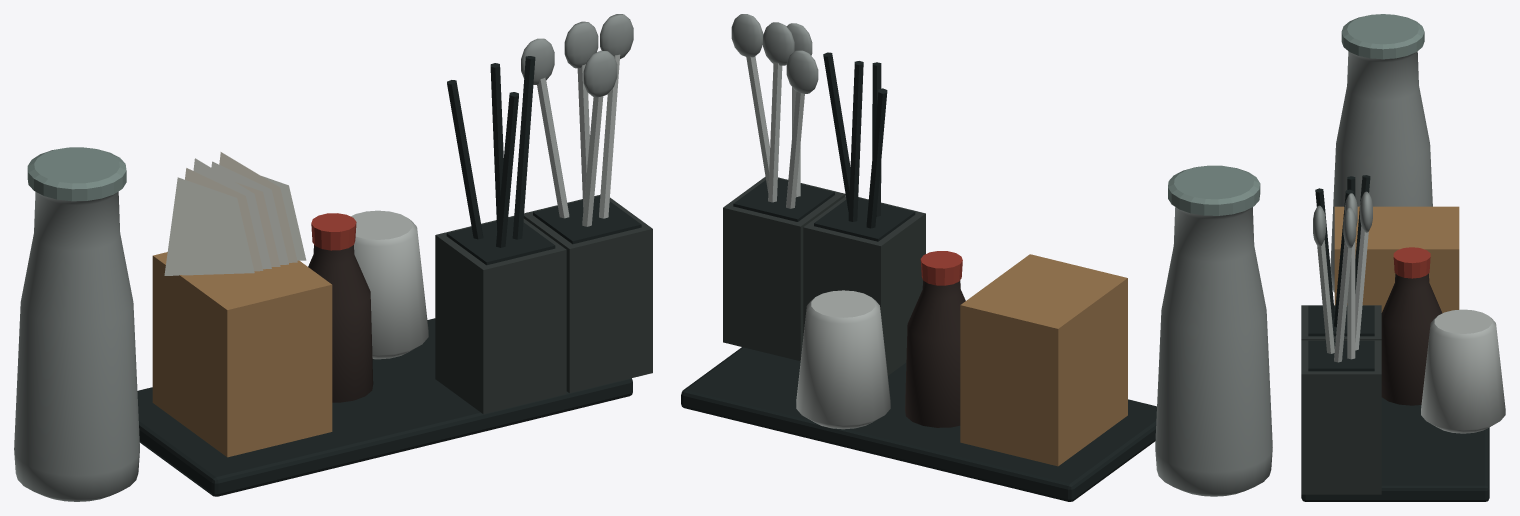
The model's file is service.glb.
3 renders of one model, left to right at view 1: azimuth 30°, elevation 25°; view 2: azimuth 150°, elevation 25°; view 3: azimuth 270°, elevation 25°, orthographic. The views are drawn at different scales.
Parts seen in each view (by area): view 1: Waraku_service; view 2: Waraku_service; view 3: Waraku_service.
Boxes of the visible parts, left/top/right/bottom form: Waraku_service: left=14, top=14, right=652, bottom=501; Waraku_service: left=681, top=14, right=1272, bottom=501; Waraku_service: left=1301, top=14, right=1505, bottom=501.
Size of the model in its own units: 0.4117 by 0.24 by 0.1475.
